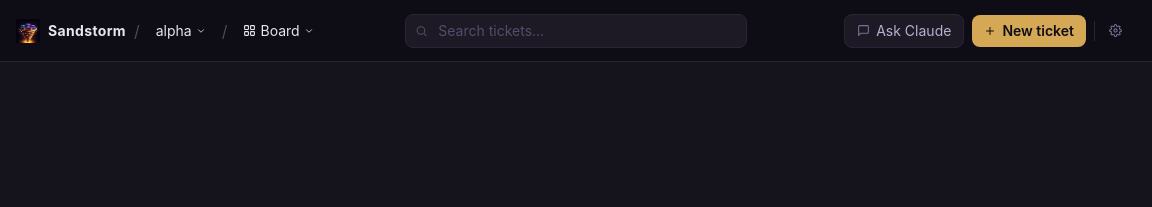
Test: TopNav › shows ticket count badge for project with tickets
The image size is (1152, 207).
Click the button with test id "workspace-switcher-btn". click: click(181, 30)
box: [148,16,214,44]
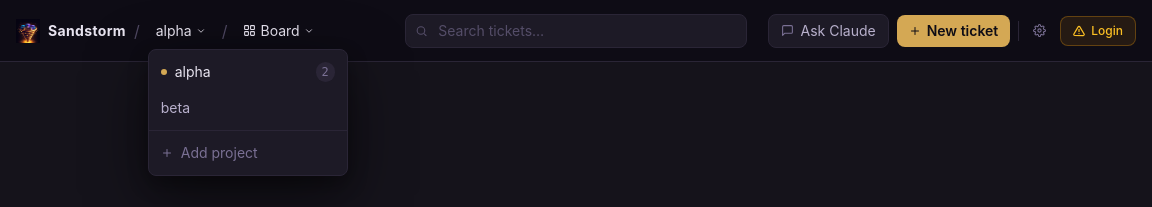
Result: the text "2" is shown at [316,62,335,82]
Result: the text with test id "workspace-badge-1" reads "2" at [322,64,329,78]
